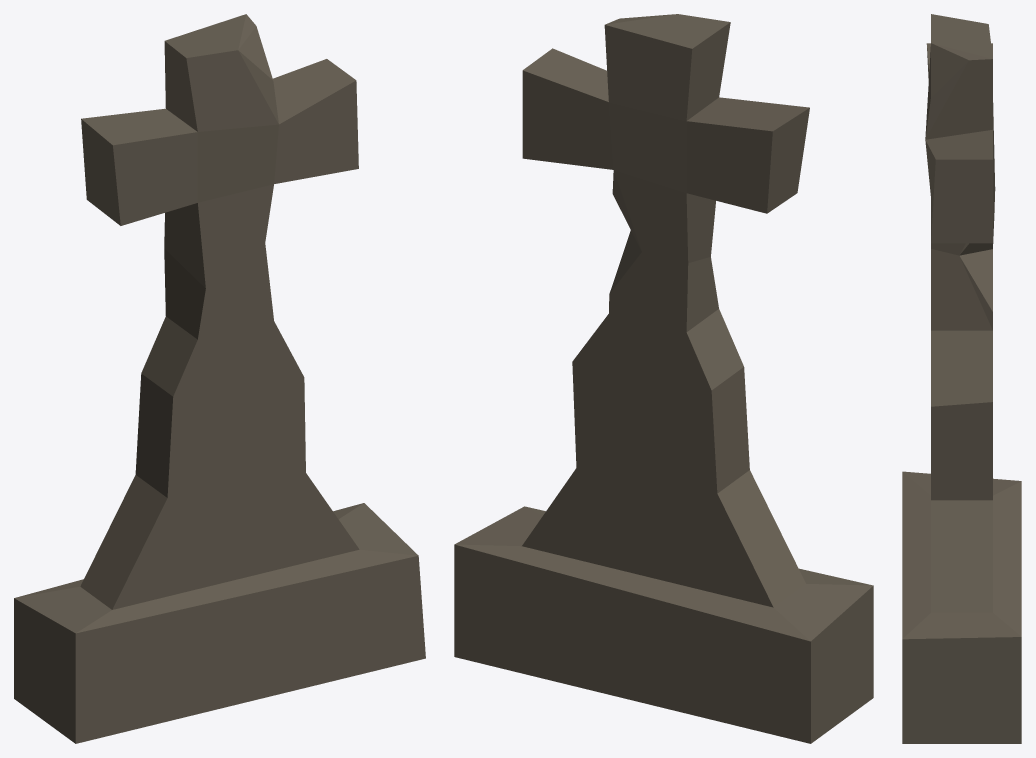
File: Grave_3.fbx
3 renders of one model, left to right at view 1: azimuth 30°, elevation 25°; view 2: azimuth 150°, elevation 25°; view 3: azimuth 270°, elevation 25°, orthographic. The views are drawn at different scales.
Parts seen in each view (by area): view 1: Grave_3; view 2: Grave_3; view 3: Grave_3.
Part boxes in pixels (bbox=[...]): Grave_3: bbox=[14, 14, 425, 743]; Grave_3: bbox=[454, 14, 873, 743]; Grave_3: bbox=[902, 14, 1021, 743].
Bounding box in the file's own units: 62.45 × 110 × 19.06.
